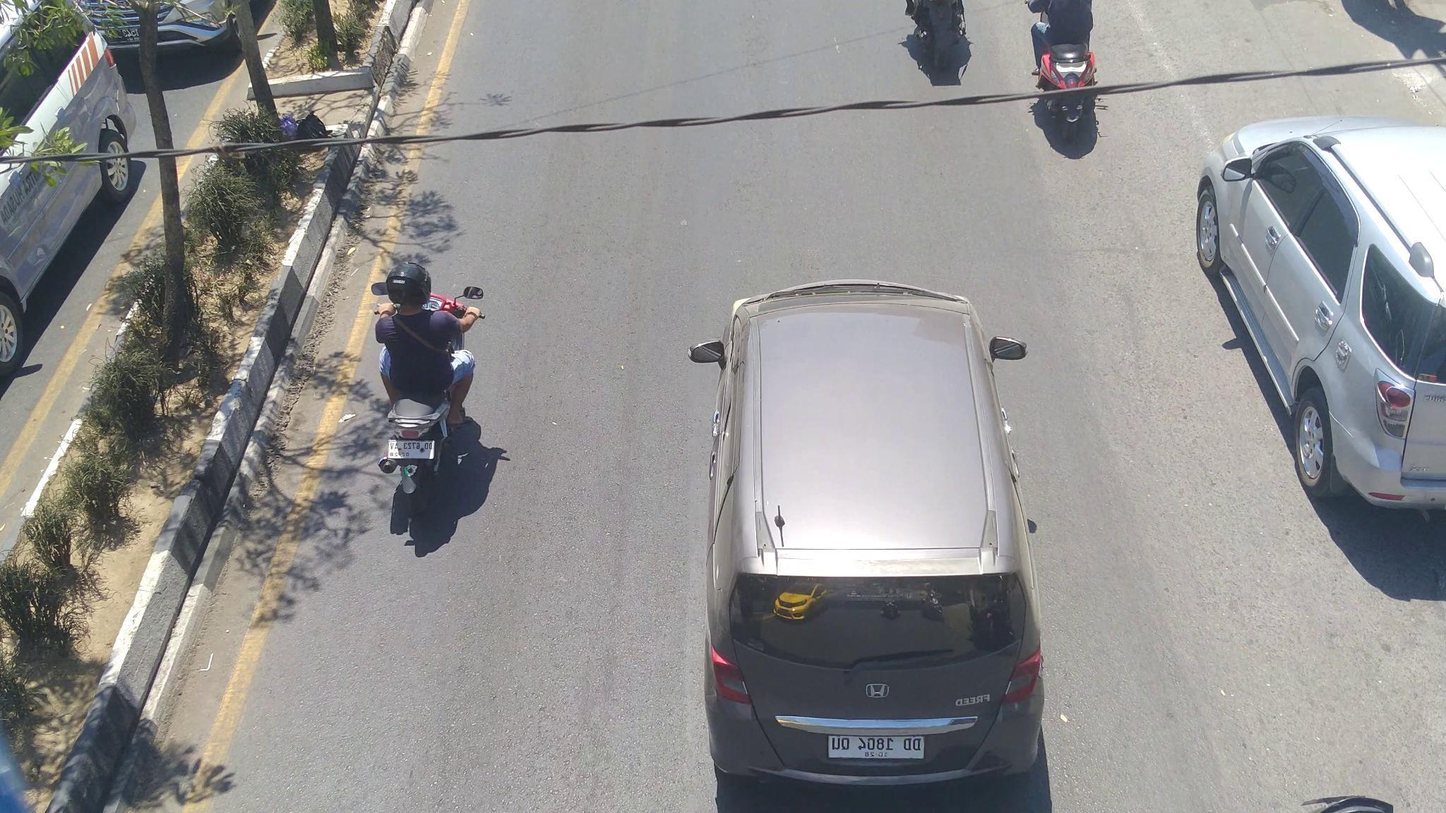Helmet: (382, 257, 435, 312)
bike: (368, 278, 488, 509), (1026, 0, 1103, 142)
number-plate: (387, 435, 438, 460)
rider: (376, 260, 478, 432)
